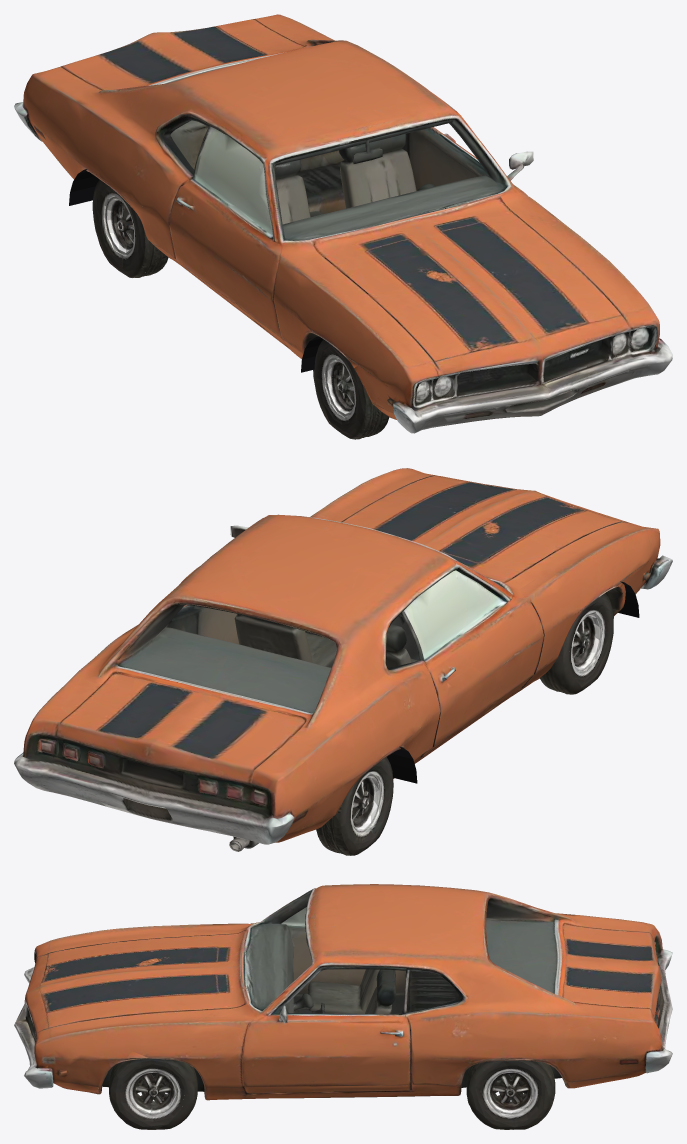
Rendered from car_classic.glb.
3 renders of one model, top to bottom at view 1: azimuth 30°, elevation 25°; view 2: azimuth 150°, elevation 25°; view 3: azimuth 270°, elevation 25°, orthographic. The views are drawn at different scales.
Parts seen in each view (by area): view 1: body, wheel_RR, wheel_FR, liner_RR; view 2: body, wheel_RR, wheel_FR, liner_RR; view 3: body, wheel_RL, wheel_FL.
Boxes of the visible parts, left/top/right/bottom form: body: left=14, top=14, right=672, bottom=433; wheel_RR: left=92, top=173, right=168, bottom=277; wheel_FR: left=317, top=341, right=389, bottom=439; liner_RR: left=69, top=169, right=99, bottom=205; body: left=14, top=468, right=672, bottom=855; wheel_RR: left=316, top=751, right=393, bottom=855; wheel_FR: left=569, top=586, right=623, bottom=689; liner_RR: left=387, top=746, right=417, bottom=783; body: left=14, top=884, right=672, bottom=1129; wheel_RL: left=466, top=1058, right=555, bottom=1129; wheel_FL: left=98, top=1058, right=184, bottom=1129.
Size of the model in its own units: 2.06 by 1.39 by 4.9.
2 materials, 1 textured.
